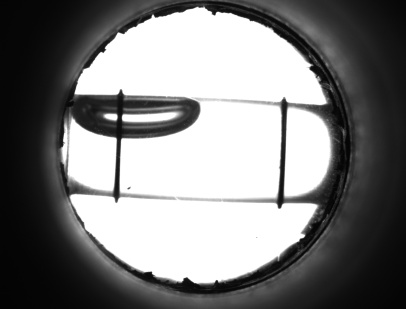line: (273, 120, 294, 189), (110, 146, 126, 184)
